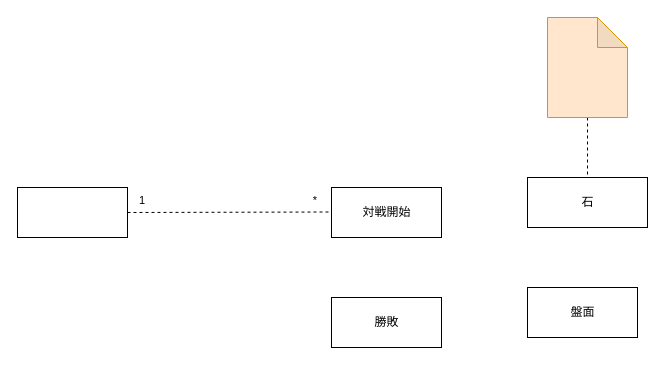
This 665x365 diagram has some shape labels left out. The centre of each missing label's shape, as x and y in pixels:
"プレイヤー" belongs at (x=72, y=212).
"白と黒がある" belongs at (x=587, y=67).
